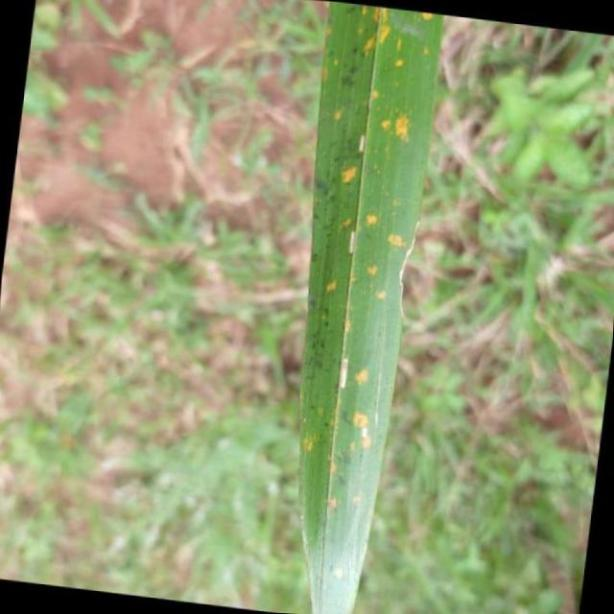Kalium: (304, 0, 444, 614)
